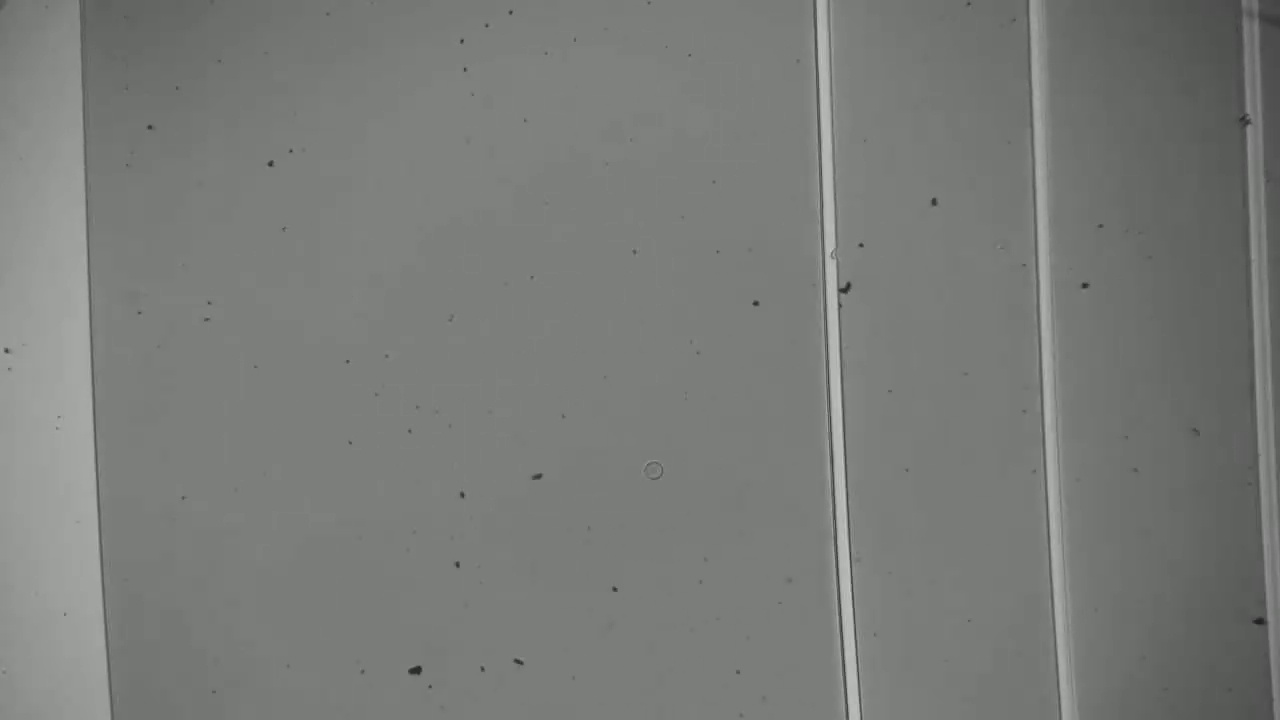edge_bite: (817, 238, 841, 266)
stains_enbedded: (1233, 107, 1269, 134)
